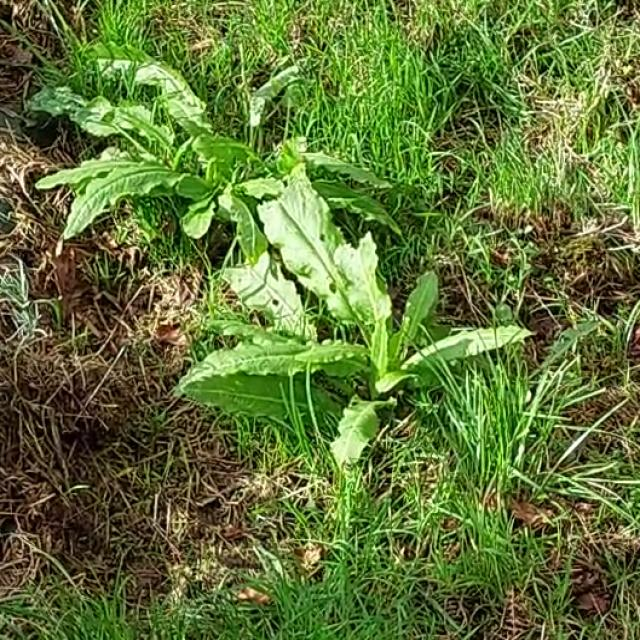organic waste: (173, 207, 506, 483), (40, 45, 317, 276)
